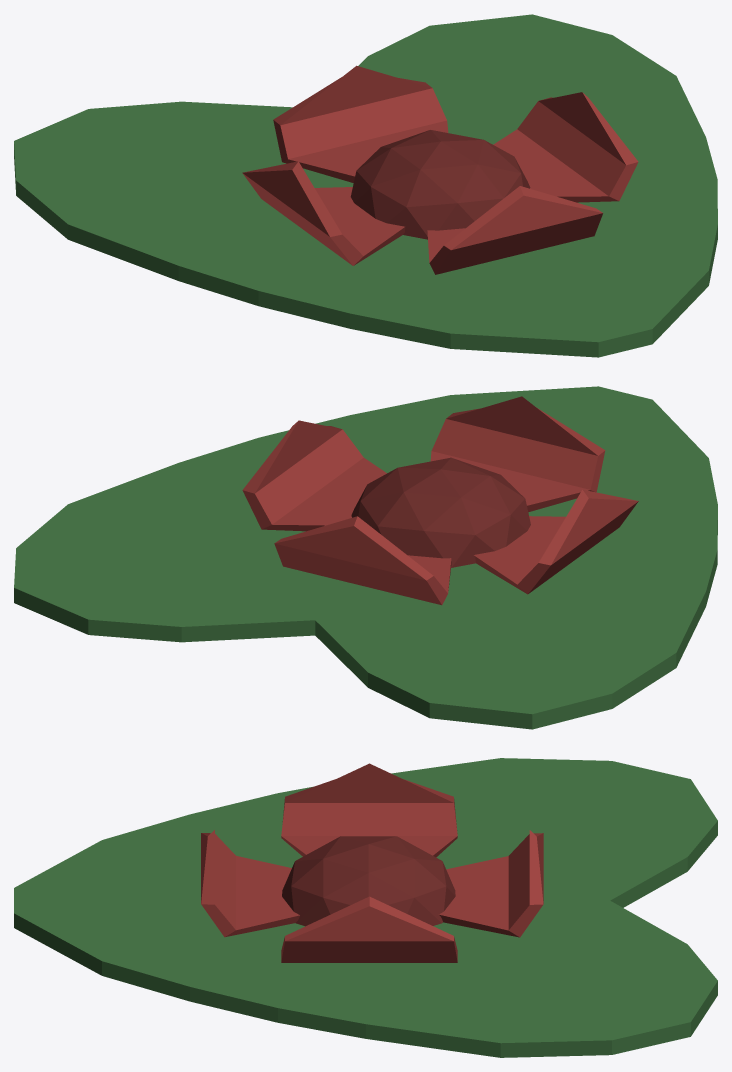
File: Flower_6_Red.fbx
3 renders of one model, top to bottom at view 1: azimuth 30°, elevation 25°; view 2: azimuth 150°, elevation 25°; view 3: azimuth 270°, elevation 25°, orthographic. The views are drawn at different scales.
Parts seen in each view (by area): view 1: Flower_6_Red_Part_1, Flower_6_Red_Part_2, Flower_6_Red_Part_3; view 2: Flower_6_Red_Part_1, Flower_6_Red_Part_2, Flower_6_Red_Part_3; view 3: Flower_6_Red_Part_1, Flower_6_Red_Part_2, Flower_6_Red_Part_3.
Part boxes in pixels (x1=…): Flower_6_Red_Part_1: x1=14, y1=14, x2=717, y2=357; Flower_6_Red_Part_2: x1=242, y1=65, x2=638, y2=274; Flower_6_Red_Part_3: x1=350, y1=130, x2=530, y2=239; Flower_6_Red_Part_1: x1=14, y1=386, x2=717, y2=729; Flower_6_Red_Part_2: x1=242, y1=396, x2=638, y2=605; Flower_6_Red_Part_3: x1=351, y1=457, x2=530, y2=567; Flower_6_Red_Part_1: x1=14, y1=758, x2=717, y2=1057; Flower_6_Red_Part_2: x1=201, y1=763, x2=543, y2=962; Flower_6_Red_Part_3: x1=282, y1=836, x2=455, y2=926.
Bounding box in the file's own units: 76.67 × 10.7 × 80.
